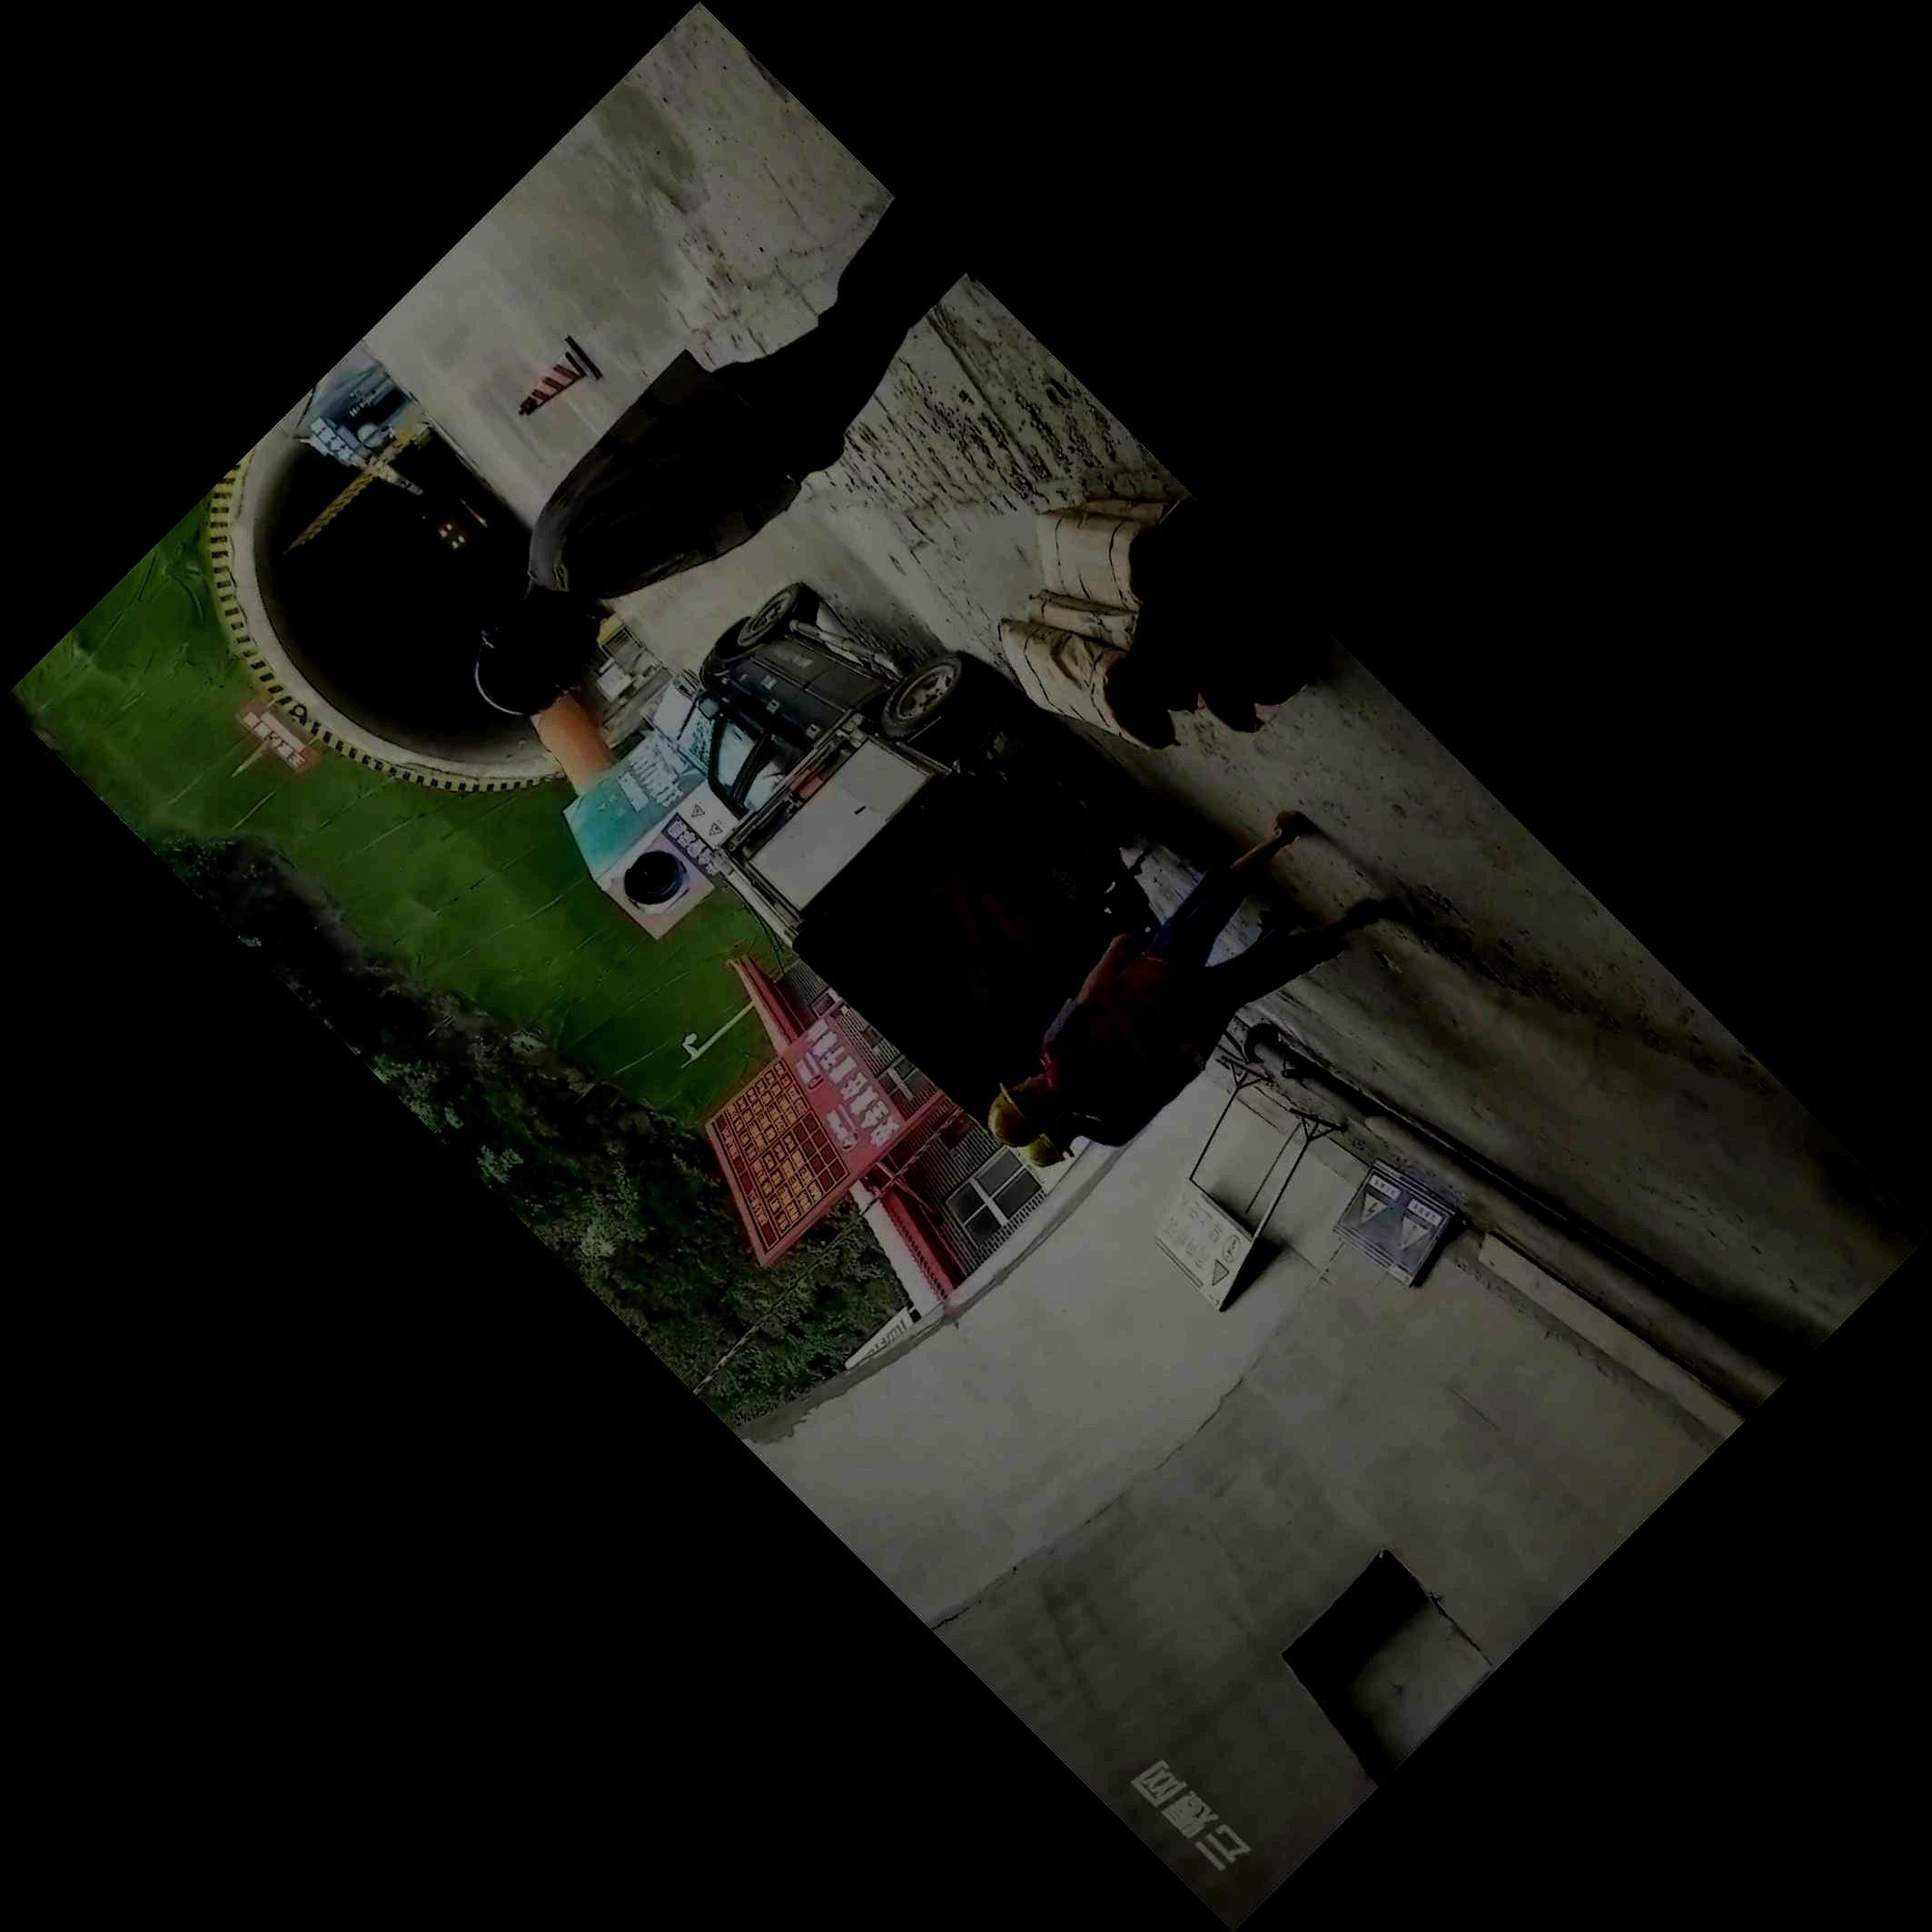helmet: (474, 600, 600, 717), (987, 1072, 1053, 1148), (1028, 1127, 1072, 1168)
